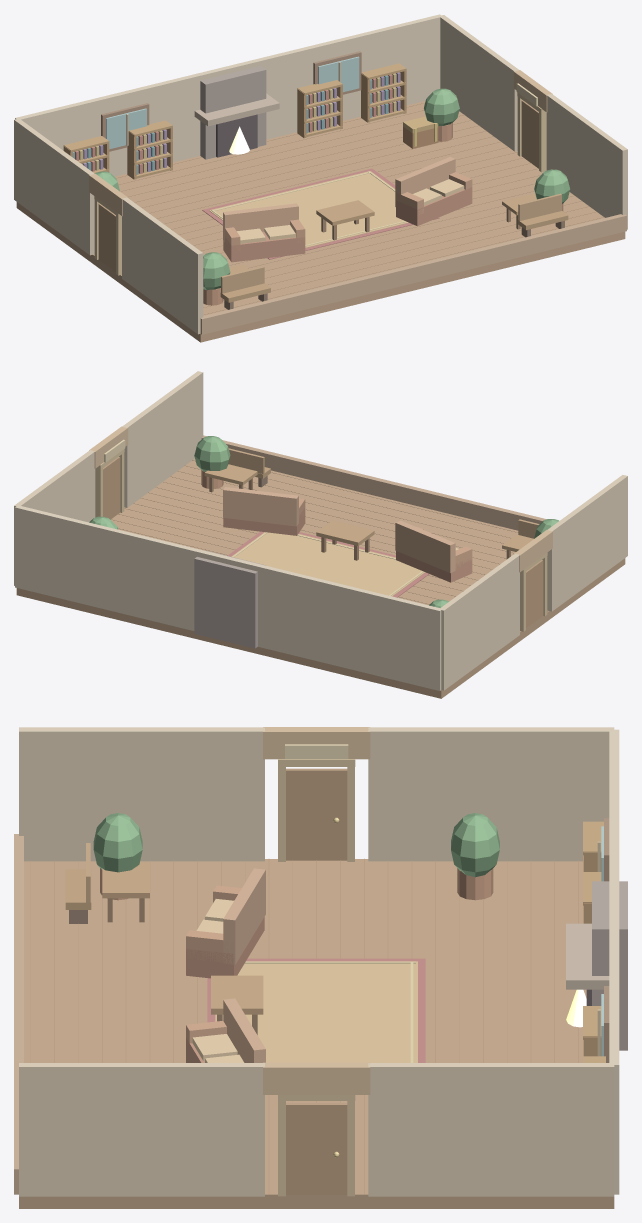
Rendered from 10_Cozy_Lobby.glb.
3 renders of one model, top to bottom at view 1: azimuth 30°, elevation 25°; view 2: azimuth 150°, elevation 25°; view 3: azimuth 270°, elevation 25°, orthographic. The views are drawn at different scales.
Visible parts, largest first — view 1: floor, side_wall (×4), back_wall, front_low_wall, rug_inset, fireplace_44, window_glass (×2), sofa_175, sofa_174, door_lintel (×2), sofa_180, sofa_181 (+16 smaller); view 2: back_wall, side_wall (×4), floor, rug_inset, front_low_wall, fireplace_44, sofa_181, sofa_175, door_lintel (×2), potted_plant_198, wood_door_34, wood_door_39 (+6 smaller); view 3: side_wall (×4), floor, rug_inset, door_lintel (×2), wood_door_34, wood_door_39, back_wall, fireplace_44, front_low_wall, sofa_175, potted_plant_200, potted_plant_196 (+15 smaller).
Boxes of the visible parts, x1,y1,x2,y2 form: floor: (16,101,625,342); side_wall (×4): (14,15,627,334); back_wall: (15,14,441,176); front_low_wall: (200,214,626,334); rug_inset: (209,171,408,247); fireplace_44: (200,66,266,159); window_glass (×2): (106,56,359,149); sofa_175: (223,203,298,242); sofa_174: (223,231,305,262); door_lintel (×2): (89,70,552,215); sofa_180: (396,187,472,226); sofa_181: (395,156,455,206); back_wall: (15,505,442,690); side_wall (×4): (14,371,627,690); floor: (16,458,625,698); rug_inset: (231,532,425,596); front_low_wall: (201,435,546,530); fireplace_44: (194,550,265,648); sofa_181: (223,487,298,526); sofa_175: (395,520,455,573); door_lintel (×2): (89,426,552,572); potted_plant_198: (194,436,230,471); wood_door_34: (526,560,543,627); wood_door_39: (103,457,120,519); side_wall (×4): (19,727,614,1196); floor: (19,859,614,1208); rug_inset: (215,961,417,1062); door_lintel (×2): (263,727,370,1094); wood_door_34: (286,768,347,860); wood_door_39: (286,1103,347,1194); back_wall: (609,729,619,1194); fireplace_44: (592,881,627,1050); front_low_wall: (14,834,23,1194); sofa_175: (223,868,265,965); potted_plant_200: (451,813,499,877); potted_plant_196: (93,813,142,872).
Size of the model in its own units: 20.31 by 4 by 15.47.
